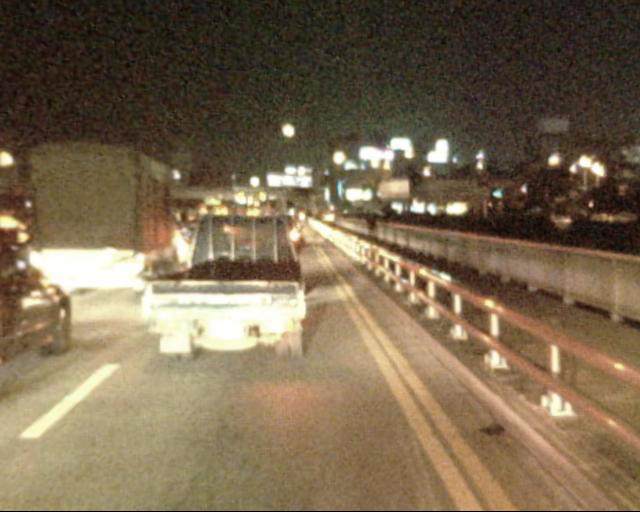person: (365, 210, 385, 250)
